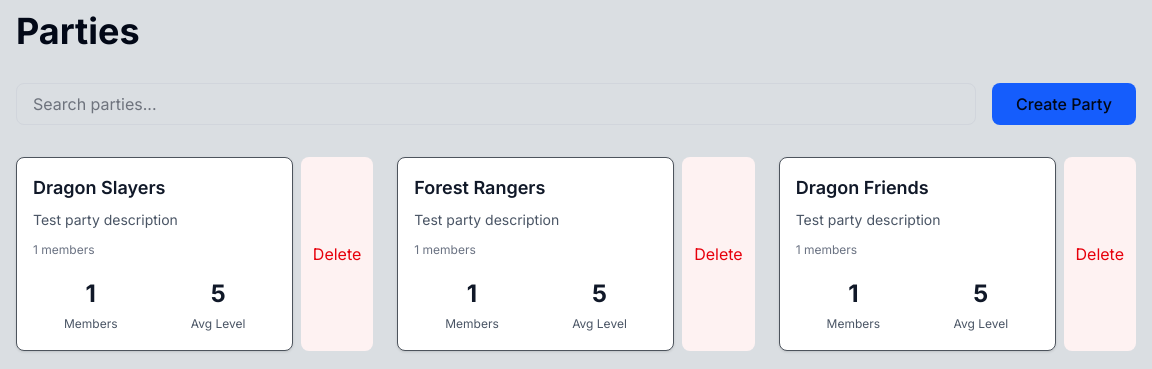
Test: PartyListPage › search and filter › filters parties by name search
Type "Dragon" into the field labelled "Search parties...".
click(496, 104); type("Dragon")  # box [16,83,976,125]
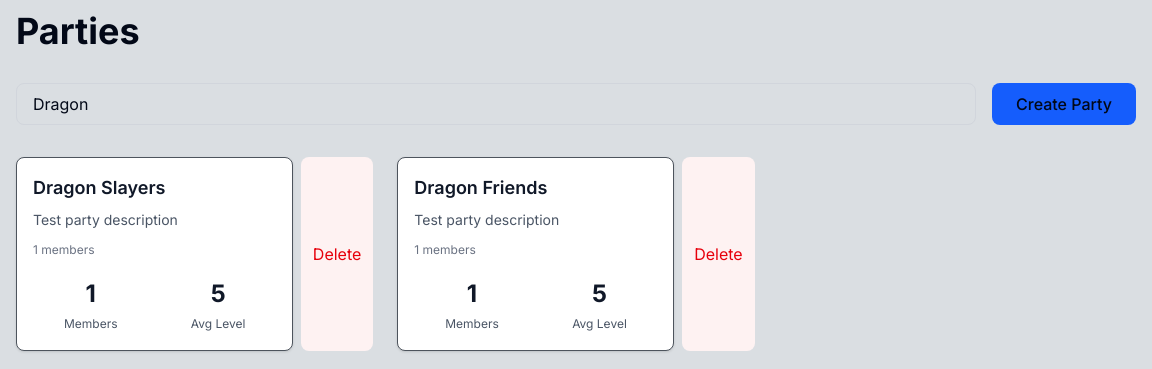
Expected: the heading "Dragon Slayers" is shown, [33,177,166,198]
Result: the button "Forest Rangers" is gone
